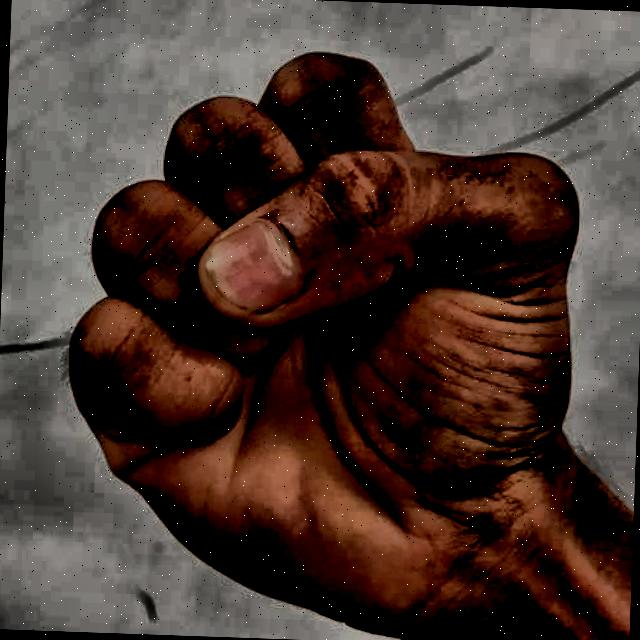Sha: (24, 14, 610, 636)
